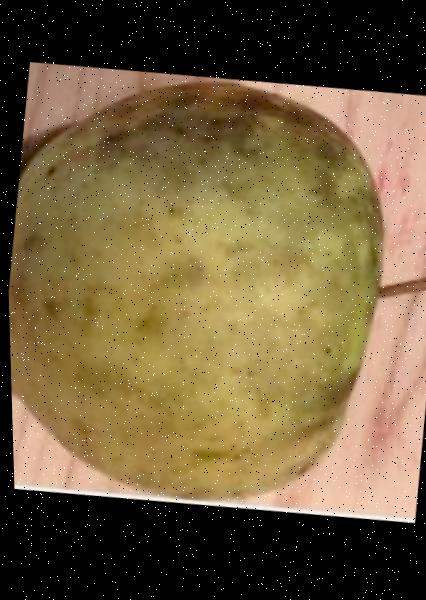BLOTCH: (2, 54, 426, 530)
